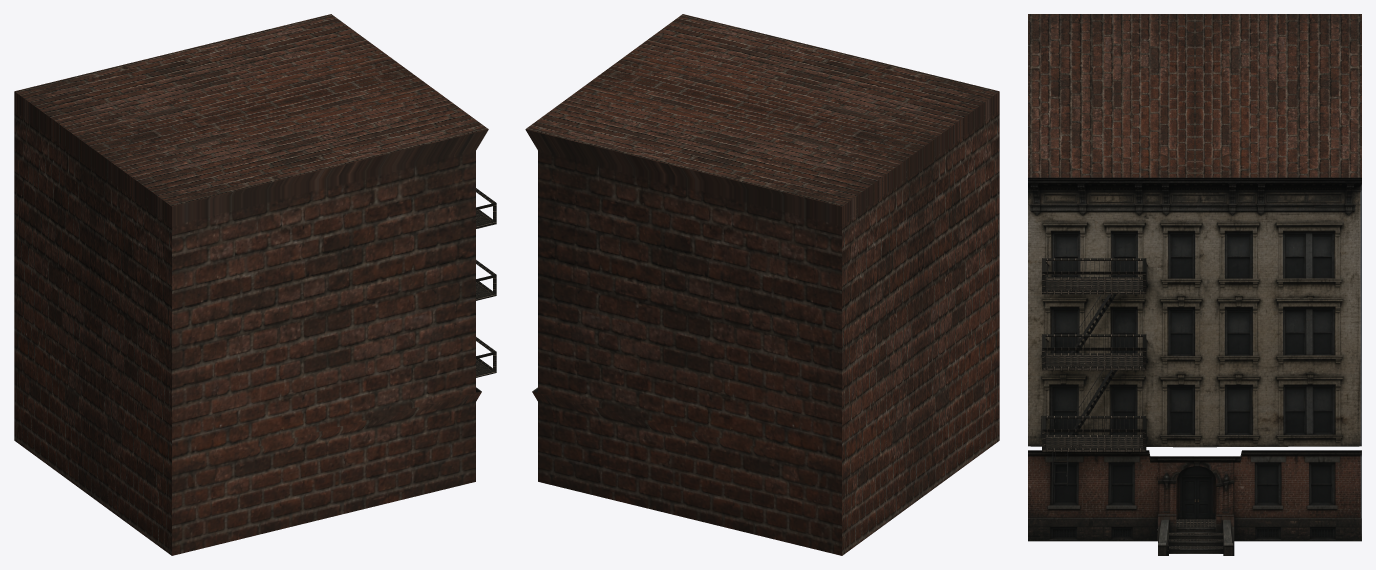
The picture shows the model from 3 angles, left to right: view 1: azimuth 30°, elevation 25°; view 2: azimuth 150°, elevation 25°; view 3: azimuth 270°, elevation 25°; orthographic projection. The views are drawn at different scales.
Parts seen in each view (by area): view 1: Cube; view 2: Cube; view 3: Cube.
Boxes of the visible parts, x1,y1,x2,y2 form: Cube: (14, 14, 496, 555); Cube: (525, 14, 999, 555); Cube: (1028, 14, 1361, 555).
Size of the model in its own units: 5.32 by 5.33 by 4.36.
